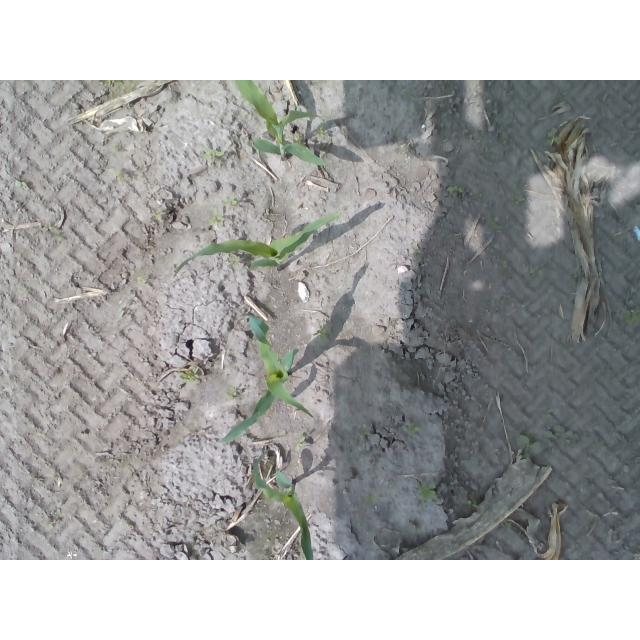Maize: (220, 315, 317, 446), (173, 213, 339, 278), (234, 80, 325, 168), (250, 456, 315, 560)
Weeds: (518, 433, 543, 459), (419, 485, 442, 504), (624, 308, 640, 324), (207, 214, 223, 226), (446, 184, 463, 195), (403, 424, 421, 434), (208, 149, 224, 159), (182, 372, 195, 384), (545, 136, 559, 147), (226, 388, 238, 400), (316, 329, 329, 340), (499, 518, 513, 528), (224, 199, 239, 208), (315, 129, 326, 140), (466, 499, 479, 508), (14, 179, 24, 188)
